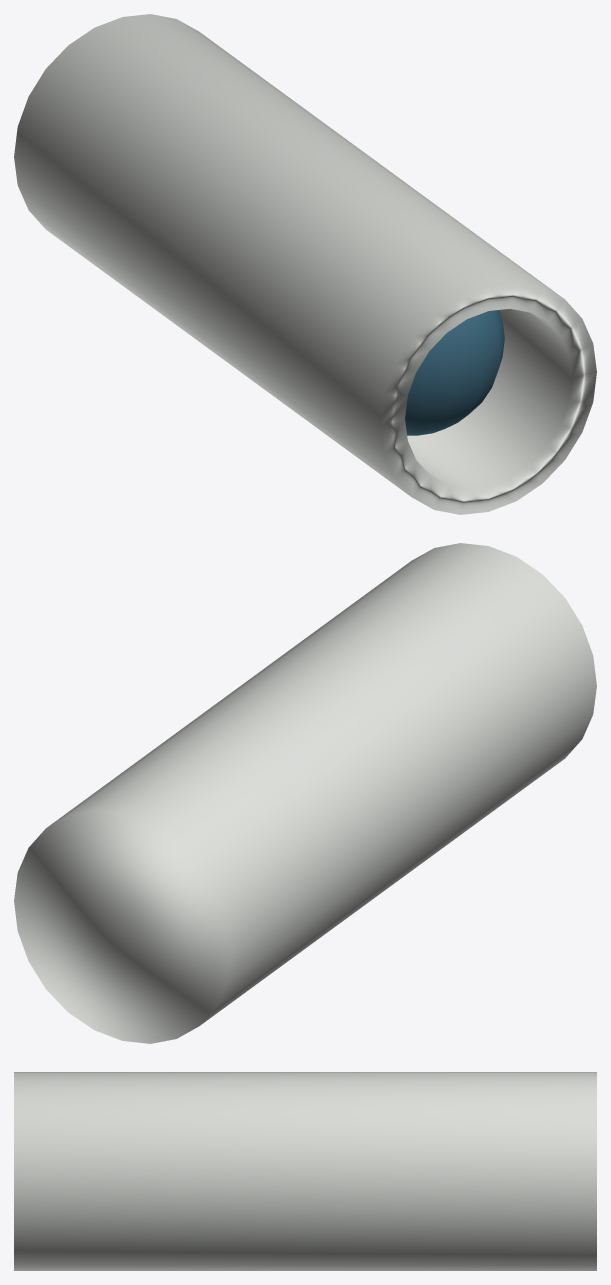
Rendered from voyager_scan_platform.boom.azimuth.elevation.narrow_angle.glb.
3 renders of one model, top to bottom at view 1: azimuth 30°, elevation 25°; view 2: azimuth 150°, elevation 25°; view 3: azimuth 270°, elevation 25°, orthographic. The views are drawn at different scales.
Visible parts, largest first — view 1: voyager_scan_platform.boom.azimuth.elevation.narrow_angle.me, voyager_scan_platform.boom.azimuth.elevation.narrow_angle.le; view 2: voyager_scan_platform.boom.azimuth.elevation.narrow_angle.me; view 3: voyager_scan_platform.boom.azimuth.elevation.narrow_angle.me.
Part boxes in pixels (x1,y1,x2,y2): voyager_scan_platform.boom.azimuth.elevation.narrow_angle.me: (14,14,596,514); voyager_scan_platform.boom.azimuth.elevation.narrow_angle.le: (405,310,504,435); voyager_scan_platform.boom.azimuth.elevation.narrow_angle.me: (14,543,596,1043); voyager_scan_platform.boom.azimuth.elevation.narrow_angle.me: (14,1072,596,1270).
Bounding box in the file's own units: 0.13 × 0.13 × 0.38.
